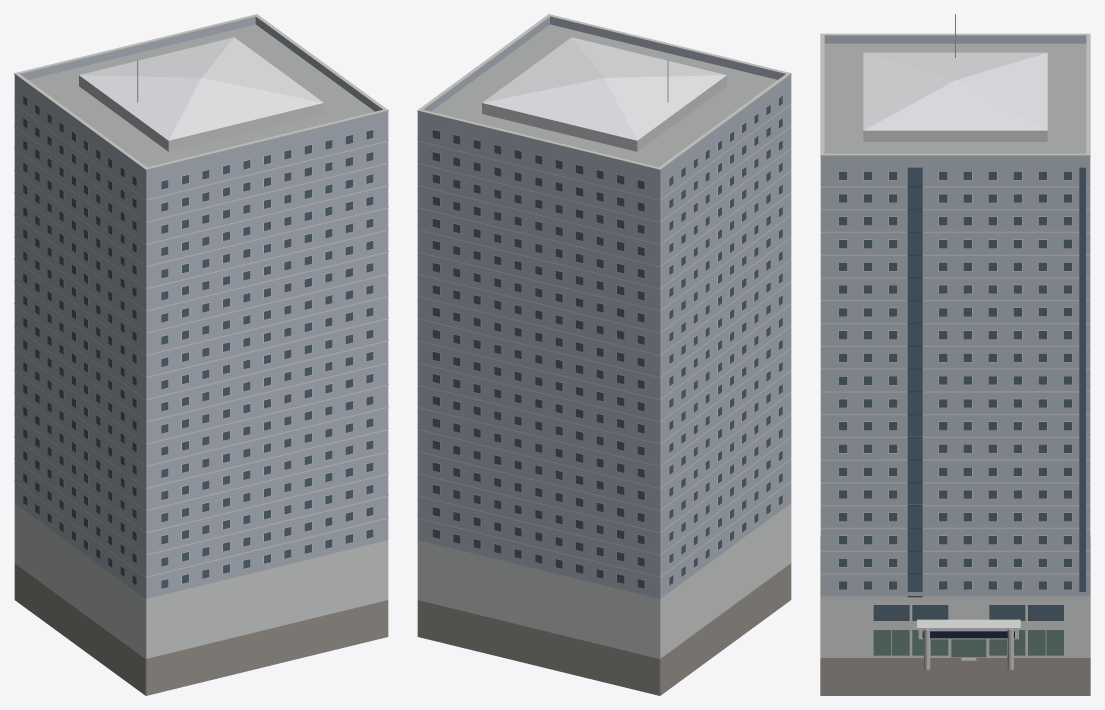
3 views of the same model, side by side, from view 1: azimuth 30°, elevation 25°; view 2: azimuth 150°, elevation 25°; view 3: azimuth 270°, elevation 25° (orthographic). The views are drawn at different scales.
Visible parts, largest first — view 1: w451562714__tower-wall, w451562714__base-wall, w451562714__glass, w451562714__foundation-wall, w451562714__louver-roof, w451562714__band-wall, w451562714__frame, w451562714__roof, w451562714__coping-stone, w451562714__louver-wall; view 2: w451562714__tower-wall, w451562714__base-wall, w451562714__glass, w451562714__foundation-wall, w451562714__louver-roof, w451562714__band-wall, w451562714__frame, w451562714__roof, w451562714__coping-stone, w451562714__louver-wall; view 3: w451562714__tower-wall, w451562714__glass, w451562714__louver-roof, w451562714__roof, w451562714__base-wall, w451562714__foundation-wall, w451562714__core-glass, w451562714__band-wall, w451562714__frame, w451562714__shop-glass, w451562714__coping-stone, w451562714__louver-wall (+3 smaller).
Boxes of the visible parts, bbox=[...] form: w451562714__tower-wall: bbox=[14, 17, 388, 598]; w451562714__base-wall: bbox=[14, 503, 388, 658]; w451562714__glass: bbox=[23, 96, 373, 588]; w451562714__foundation-wall: bbox=[14, 563, 388, 695]; w451562714__louver-roof: bbox=[79, 37, 323, 140]; w451562714__band-wall: bbox=[14, 103, 388, 577]; w451562714__frame: bbox=[23, 95, 373, 589]; w451562714__roof: bbox=[28, 24, 374, 167]; w451562714__coping-stone: bbox=[14, 14, 388, 170]; w451562714__louver-wall: bbox=[79, 75, 323, 151]; w451562714__tower-wall: bbox=[417, 17, 791, 598]; w451562714__base-wall: bbox=[417, 503, 791, 658]; w451562714__glass: bbox=[432, 96, 782, 588]; w451562714__foundation-wall: bbox=[417, 563, 791, 695]; w451562714__louver-roof: bbox=[482, 37, 726, 140]; w451562714__band-wall: bbox=[417, 104, 791, 577]; w451562714__frame: bbox=[432, 95, 782, 589]; w451562714__roof: bbox=[431, 24, 777, 167]; w451562714__coping-stone: bbox=[417, 14, 791, 170]; w451562714__louver-wall: bbox=[482, 75, 726, 151]; w451562714__tower-wall: bbox=[820, 36, 1090, 596]; w451562714__glass: bbox=[839, 171, 1071, 620]; w451562714__louver-roof: bbox=[863, 52, 1047, 130]; w451562714__roof: bbox=[824, 43, 1086, 153]; w451562714__base-wall: bbox=[820, 596, 1090, 657]; w451562714__foundation-wall: bbox=[820, 537, 1090, 695]; w451562714__core-glass: bbox=[907, 167, 1085, 591]; w451562714__band-wall: bbox=[820, 186, 1090, 574]; w451562714__frame: bbox=[838, 171, 1072, 655]; w451562714__shop-glass: bbox=[873, 630, 1063, 657]; w451562714__coping-stone: bbox=[820, 33, 1090, 156]; w451562714__louver-wall: bbox=[863, 130, 1047, 141].
Bounding box in the file's own units: 36.95 × 77.6 × 32.28.
